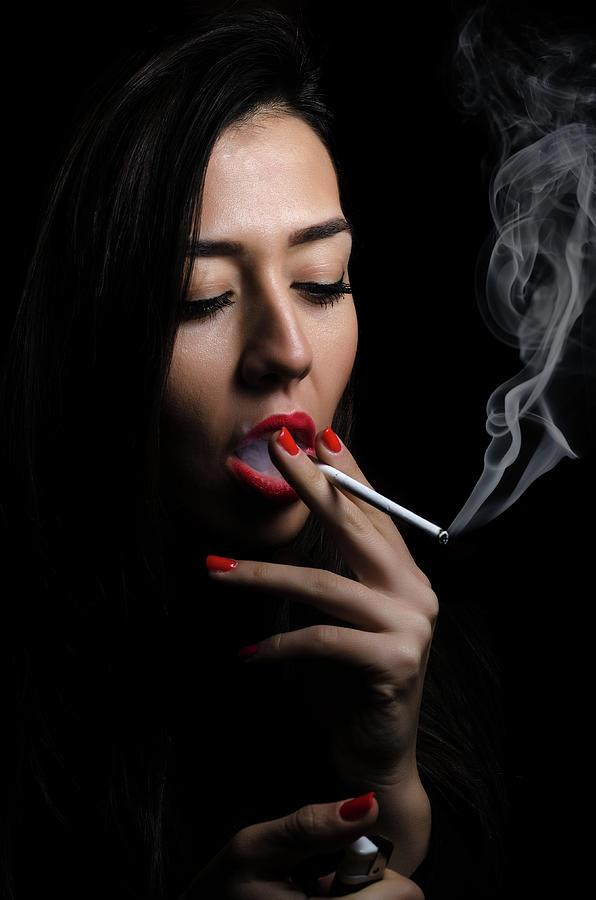cigarette: (313, 459, 448, 543)
